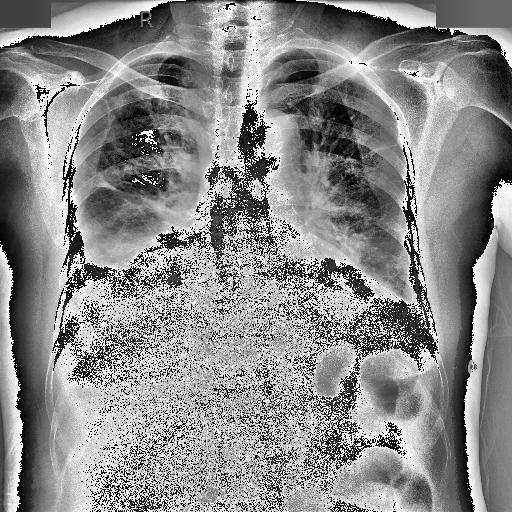0- Aortic enlargement: (241, 108, 302, 174), (236, 108, 304, 166), (248, 110, 302, 166)
10- Pleural effusion: (60, 186, 200, 372), (56, 202, 209, 330), (58, 234, 148, 300)
11- Pleural thickening: (130, 53, 198, 62), (280, 47, 335, 55)
13- Pulmonary fibrosis: (90, 176, 200, 228), (98, 174, 188, 215), (101, 181, 183, 222), (366, 140, 400, 158), (136, 140, 190, 151), (366, 141, 398, 157), (367, 144, 401, 158)
3- Cardiomegaly: (128, 246, 416, 330)
7- Lung Opacity: (308, 184, 417, 302), (72, 190, 196, 268), (86, 188, 194, 266), (82, 214, 160, 263)
